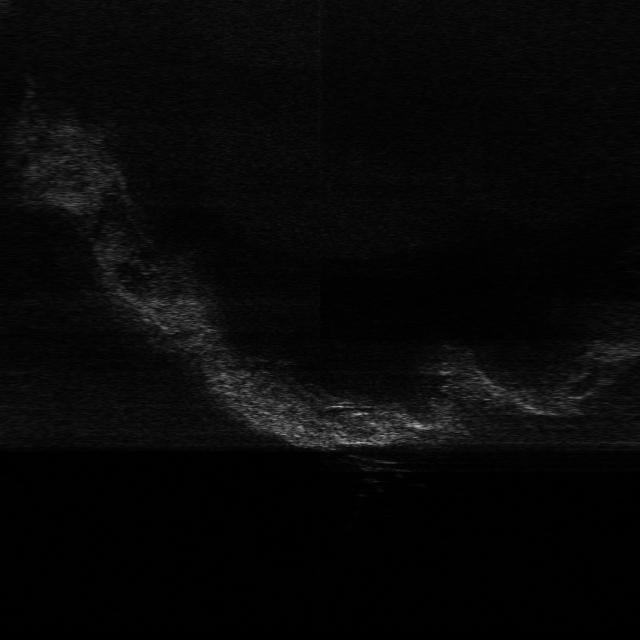plane: (339, 452, 412, 476)
